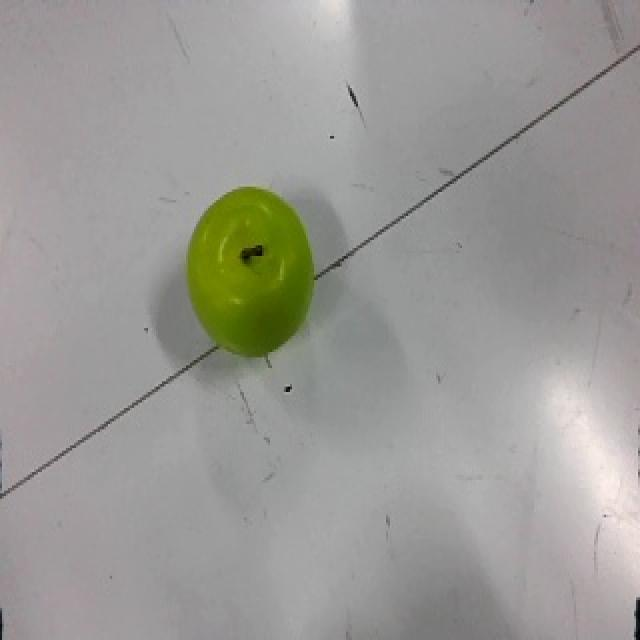apple: (184, 184, 316, 357)
